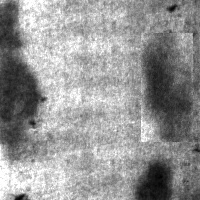patches: (141, 33, 193, 142), (1, 56, 41, 138), (136, 159, 170, 199), (153, 71, 178, 120), (1, 1, 24, 50)
